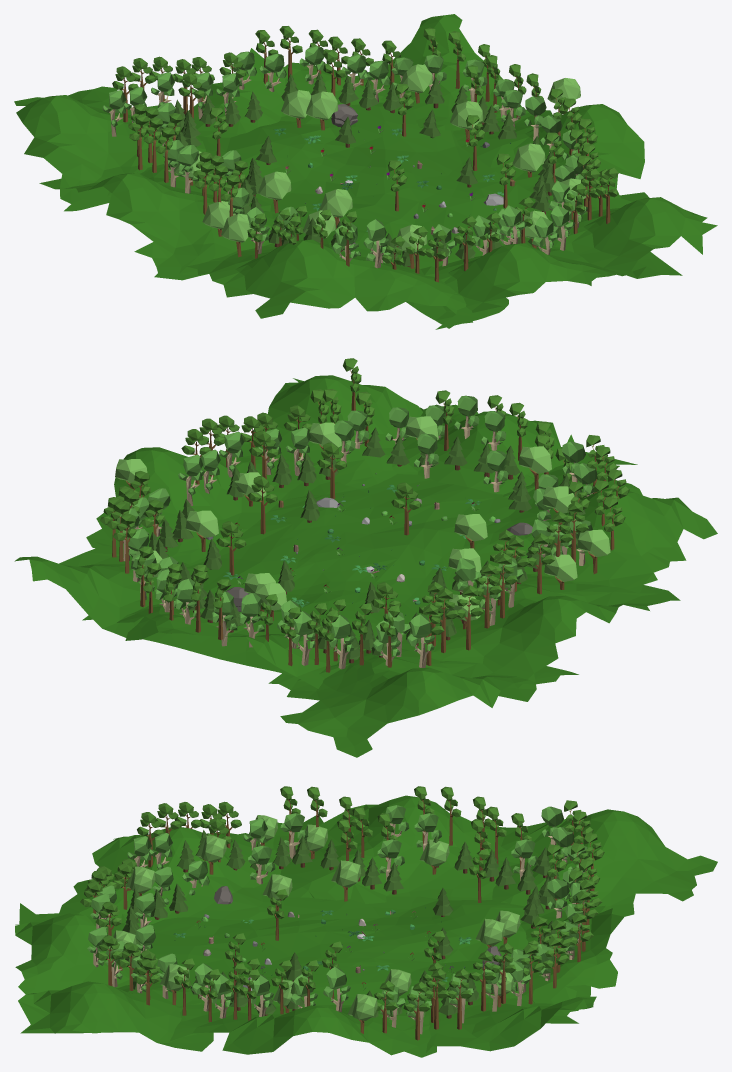
Rendered from BosqueColor.glb.
3 renders of one model, top to bottom at view 1: azimuth 30°, elevation 25°; view 2: azimuth 150°, elevation 25°; view 3: azimuth 270°, elevation 25°, orthographic. The views are drawn at different scales.
Parts seen in each view (by area): view 1: imagetostl_mesh1, imagetostl_mesh14, imagetostl_mesh13, imagetostl_mesh9, imagetostl_mesh10, imagetostl_mesh15, imagetostl_mesh11, imagetostl_mesh12, imagetostl_mesh8, imagetostl_mesh51, imagetostl_mesh49.010, imagetostl_mesh49.003 (+21 smaller); view 2: imagetostl_mesh1, imagetostl_mesh13, imagetostl_mesh9, imagetostl_mesh14, imagetostl_mesh11, imagetostl_mesh15, imagetostl_mesh12, imagetostl_mesh10, imagetostl_mesh8, imagetostl_mesh153.019, imagetostl_mesh51.003, imagetostl_mesh49.006 (+21 smaller); view 3: imagetostl_mesh1, imagetostl_mesh9, imagetostl_mesh13, imagetostl_mesh14, imagetostl_mesh11, imagetostl_mesh15, imagetostl_mesh10, imagetostl_mesh12, imagetostl_mesh8, imagetostl_mesh153, imagetostl_mesh49.005, imagetostl_mesh51 (+47 smaller).
Boxes of the visible parts, box(x1,y1,x2,y2) form: imagetostl_mesh1: box(197, 102, 552, 268); imagetostl_mesh14: box(186, 228, 508, 329); imagetostl_mesh13: box(14, 86, 205, 211); imagetostl_mesh9: box(39, 164, 278, 280); imagetostl_mesh10: box(406, 243, 682, 328); imagetostl_mesh15: box(525, 192, 717, 285); imagetostl_mesh11: box(453, 104, 644, 217); imagetostl_mesh12: box(350, 14, 529, 130); imagetostl_mesh8: box(169, 48, 387, 137); imagetostl_mesh51: box(258, 171, 291, 213); imagetostl_mesh49.010: box(306, 91, 338, 130); imagetostl_mesh49.003: box(513, 143, 545, 177); imagetostl_mesh1: box(133, 474, 515, 676); imagetostl_mesh13: box(268, 648, 578, 757); imagetostl_mesh9: box(401, 573, 680, 701); imagetostl_mesh14: box(463, 447, 717, 593); imagetostl_mesh11: box(86, 446, 321, 563); imagetostl_mesh15: box(219, 375, 422, 488); imagetostl_mesh12: box(14, 542, 193, 637); imagetostl_mesh10: box(392, 404, 619, 494); imagetostl_mesh8: box(82, 604, 339, 688); imagetostl_mesh153.019: box(407, 613, 435, 667); imagetostl_mesh51.003: box(577, 529, 610, 573); imagetostl_mesh49.006: box(519, 446, 551, 490); imagetostl_mesh1: box(149, 896, 590, 1013); imagetostl_mesh9: box(273, 795, 498, 903); imagetostl_mesh13: box(484, 809, 717, 916); imagetostl_mesh14: box(19, 827, 295, 927); imagetostl_mesh11: box(169, 1004, 436, 1057); imagetostl_mesh15: box(25, 981, 213, 1051); imagetostl_mesh10: box(15, 913, 148, 1033); imagetostl_mesh12: box(425, 996, 596, 1052); imagetostl_mesh8: box(509, 905, 623, 1023); imagetostl_mesh153: box(323, 966, 350, 1012); imagetostl_mesh49.005: box(197, 835, 226, 874); imagetostl_mesh51: box(331, 860, 361, 901).
Bounding box in the file's own units: 13.69 × 2.33 × 16.49.
